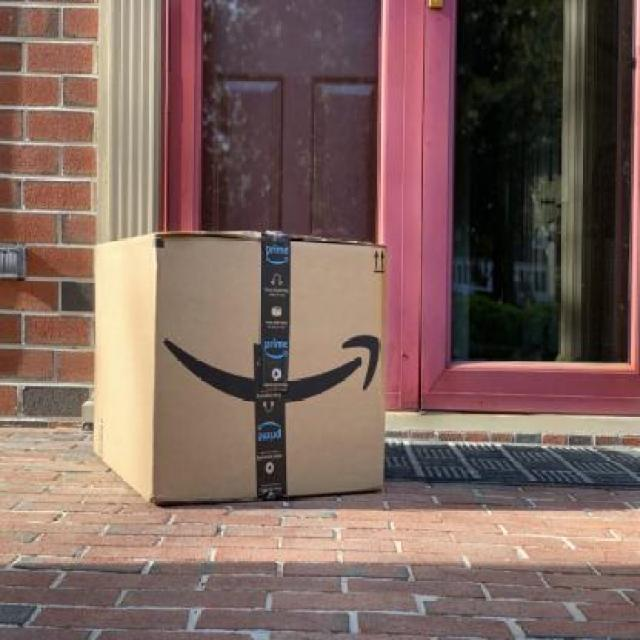obstacle: (90, 230, 388, 508)
